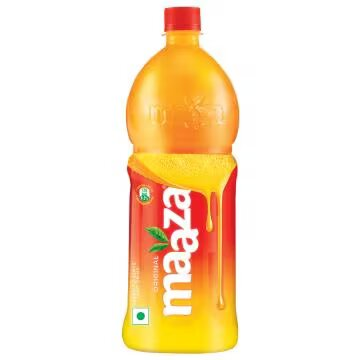veg: (132, 308, 153, 329)
